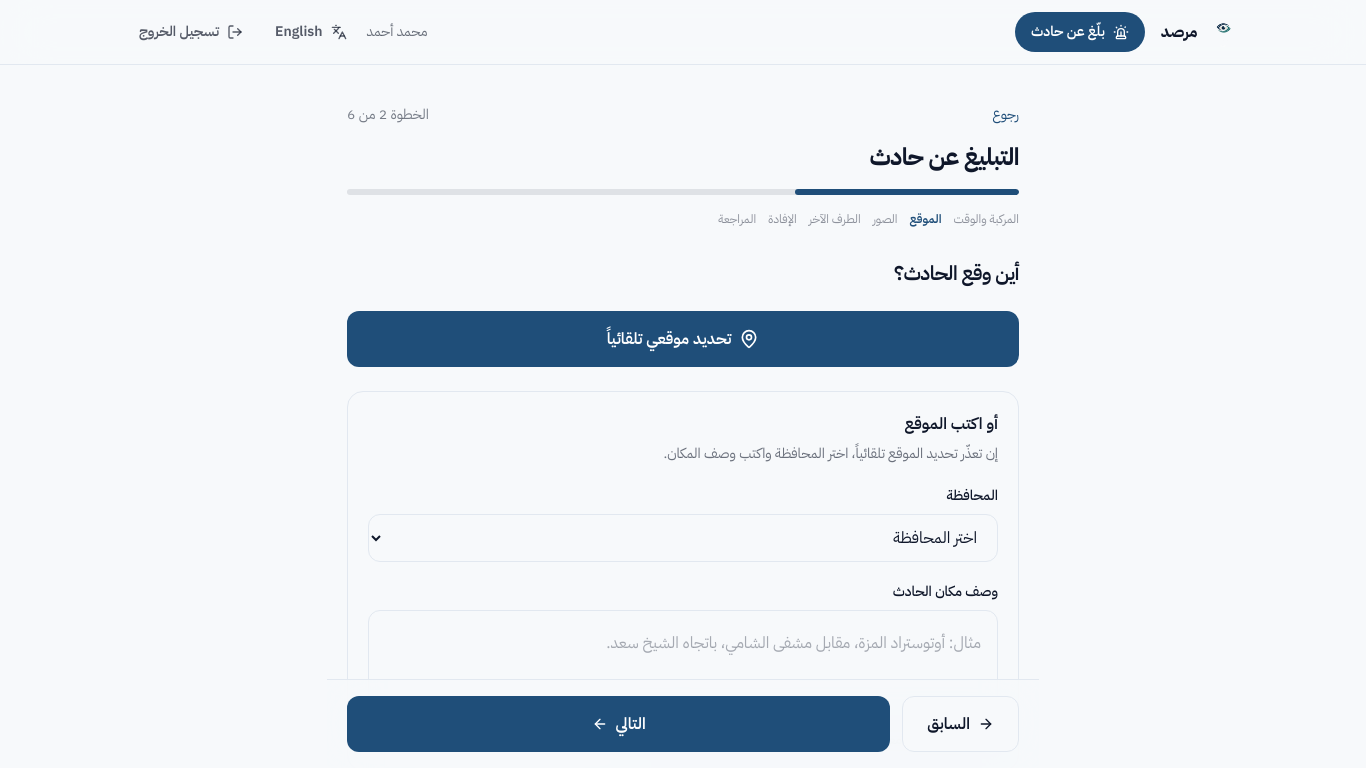
Scenario: ReportWizard › lets the reporter name a place instead of typing coordinates
The width and height of the screenshot is (1366, 768).
Select "دمشق" in the dropdown labelled "المحافظة": (683, 538) [368,514,998,562]
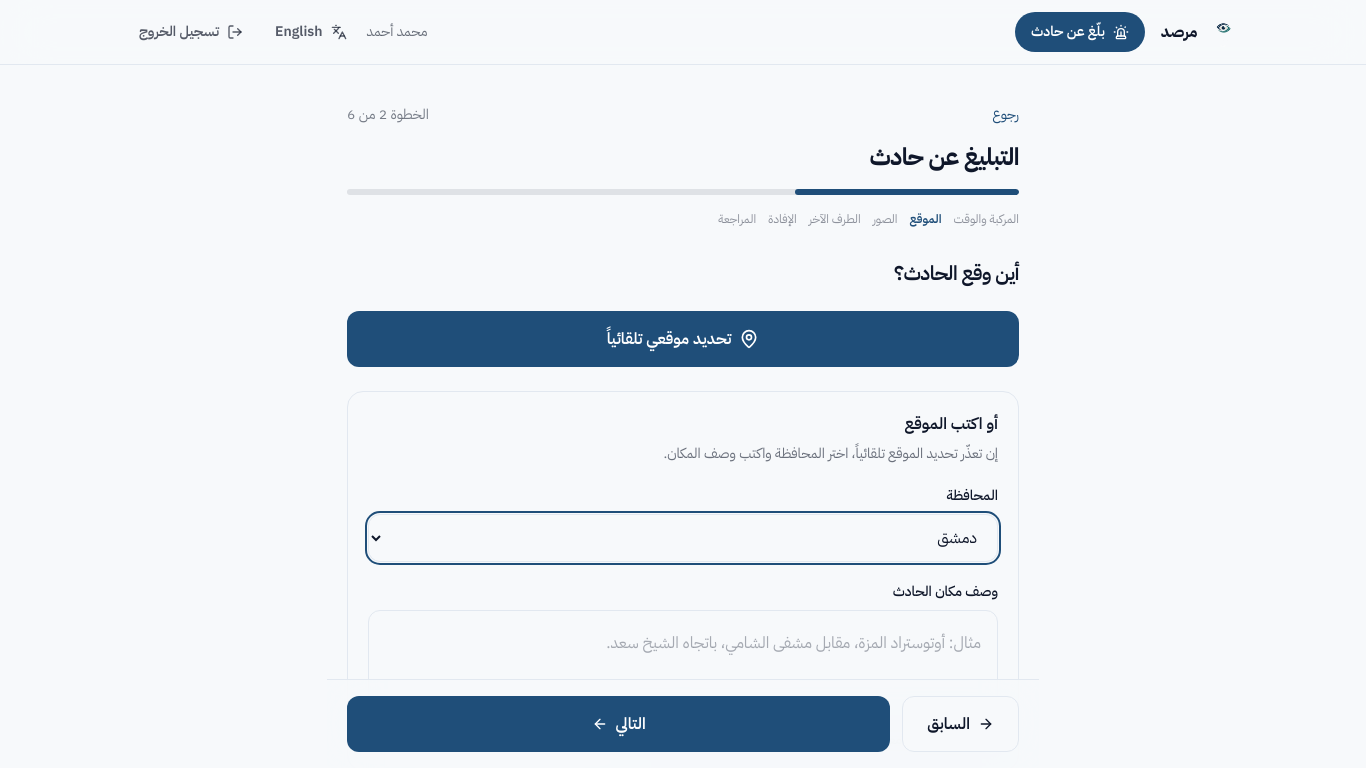
In the text box labelled "وصف مكان الحادث": (683, 666) [368,610,998,722], type "أوتوستراد المزة، مقابل مشفى الشامي"
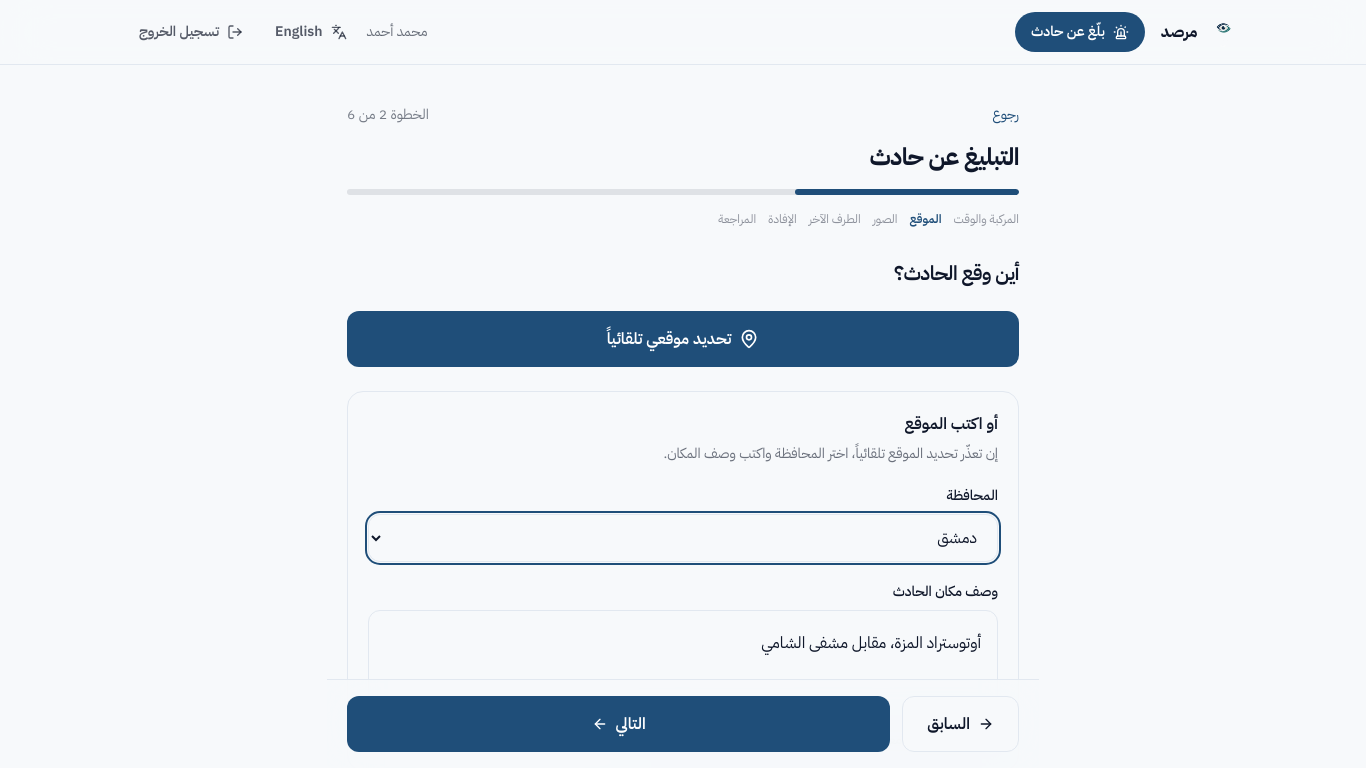
Click the button "التالي": (619, 724) [347,696,890,752]
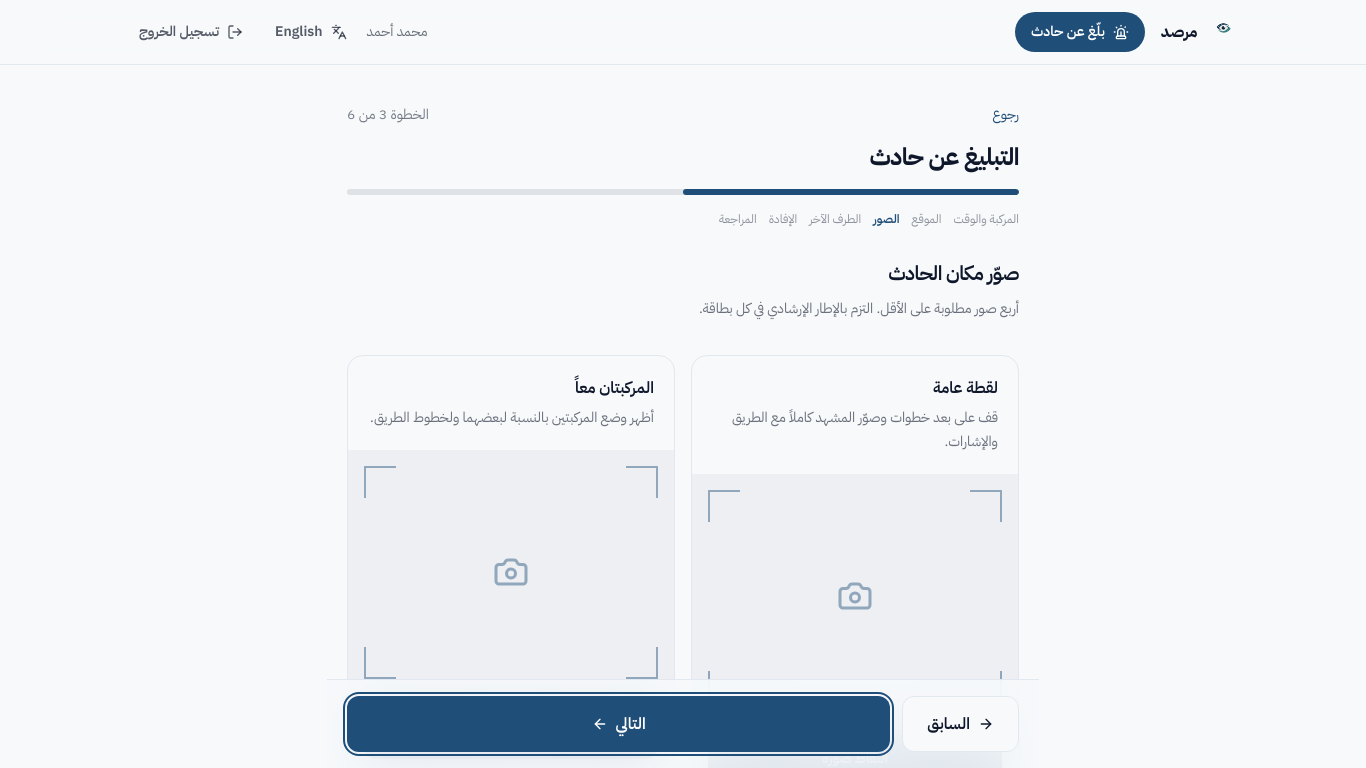
Expected: the heading "صوّر مكان الحادث" is shown, [888,258,1019,288]
